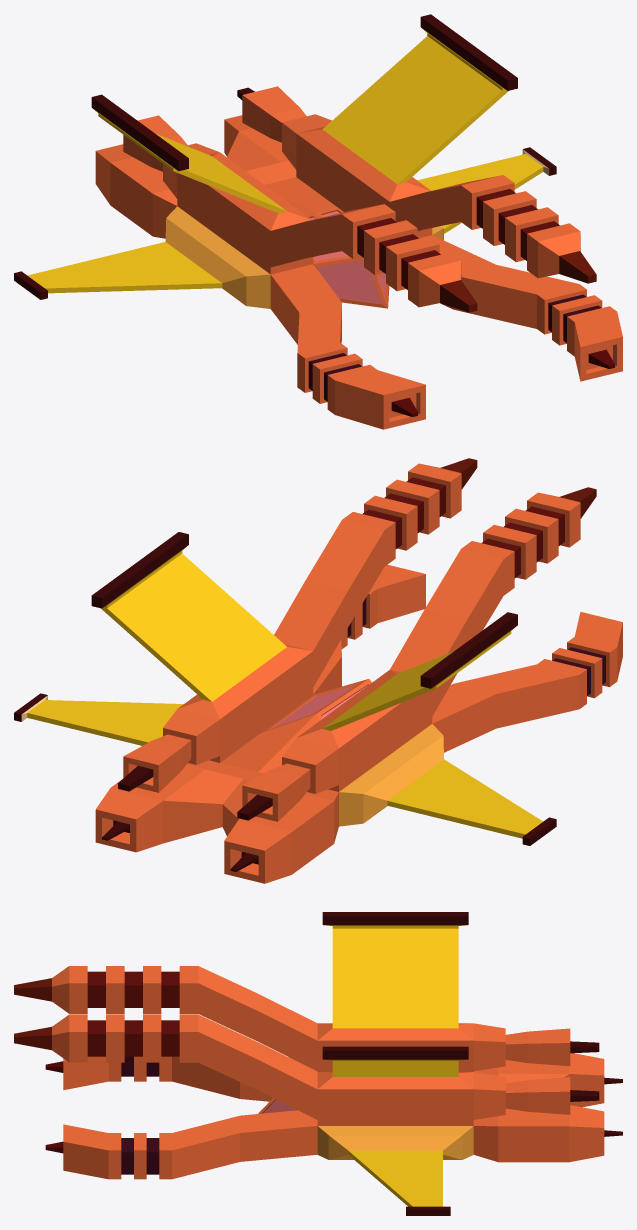
The model's file is plain_enemy1.fbx.
3 views of the same model, one above another, from view 1: azimuth 30°, elevation 25°; view 2: azimuth 150°, elevation 25°; view 3: azimuth 270°, elevation 25° (orthographic). The views are drawn at different scales.
Parts seen in each view (by area): view 1: Cube; view 2: Cube; view 3: Cube.
Part boxes in pixels (x1=…): Cube: x1=14, y1=14, x2=622, y2=429; Cube: x1=14, y1=458, x2=622, y2=883; Cube: x1=14, y1=912, x2=622, y2=1215.
Bounding box in the file's own units: 639 × 203 × 780.
Materials: 1 (1 with a texture image).
